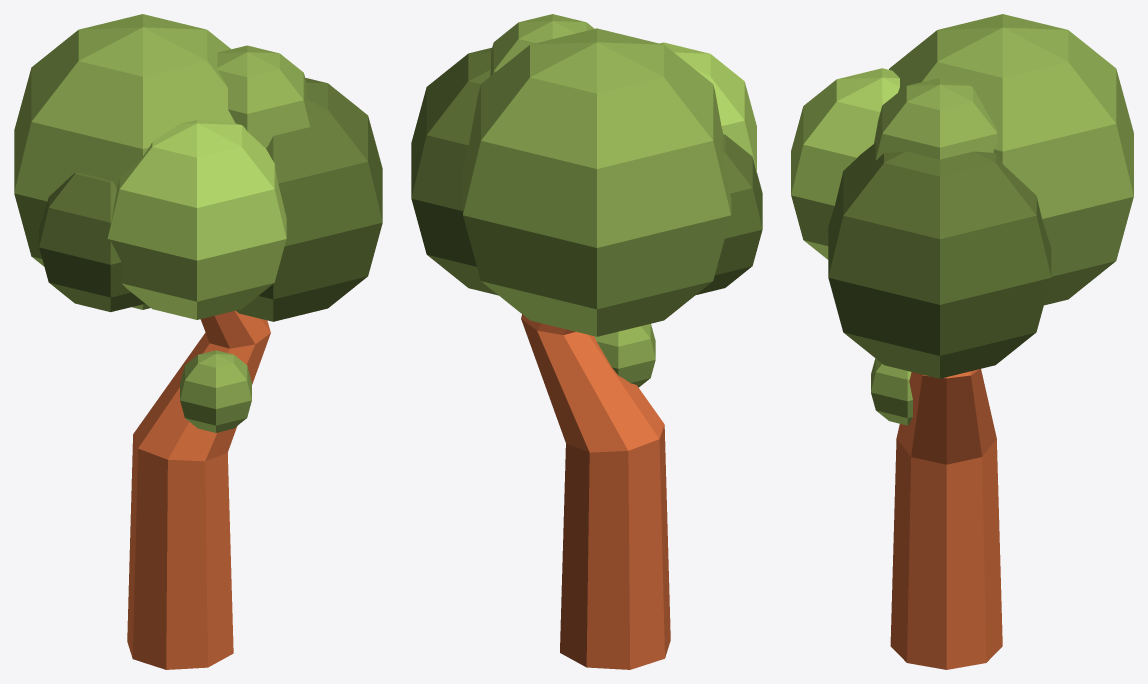
Rendered from treeShape.fbx.
3 renders of one model, left to right at view 1: azimuth 30°, elevation 25°; view 2: azimuth 150°, elevation 25°; view 3: azimuth 270°, elevation 25°, orthographic. The views are drawn at different scales.
Parts seen in each view (by area): view 1: pCylinder1, pSphere3, pSphere2, pSphere5, pSphere1, pSphere4, pSphere6; view 2: pSphere3, pCylinder1, pSphere5, pSphere1, pSphere2, pSphere6, pSphere4; view 3: pSphere5, pSphere3, pCylinder1, pSphere2, pSphere4, pSphere6.
Boxes of the visible parts, x1=… form: pCylinder1: x1=127, y1=310, x2=270, y2=669; pSphere3: x1=14, y1=14, x2=234, y2=309; pSphere2: x1=107, y1=120, x2=286, y2=319; pSphere5: x1=236, y1=78, x2=382, y2=321; pSphere1: x1=39, y1=172, x2=144, y2=312; pSphere4: x1=217, y1=45, x2=310, y2=148; pSphere6: x1=180, y1=350, x2=251, y2=432; pSphere3: x1=463, y1=28, x2=731, y2=336; pCylinder1: x1=521, y1=314, x2=670, y2=669; pSphere5: x1=411, y1=47, x2=498, y2=295; pSphere1: x1=696, y1=134, x2=762, y2=294; pSphere2: x1=659, y1=42, x2=756, y2=172; pSphere6: x1=594, y1=324, x2=655, y2=387; pSphere4: x1=490, y1=14, x2=594, y2=75; pSphere5: x1=828, y1=143, x2=1051, y2=378; pSphere3: x1=889, y1=14, x2=1133, y2=305; pCylinder1: x1=890, y1=369, x2=1002, y2=669; pSphere2: x1=791, y1=68, x2=899, y2=259; pSphere4: x1=874, y1=78, x2=998, y2=160; pSphere6: x1=871, y1=358, x2=912, y2=425.
Bounding box in the file's own units: 201 × 340 × 172.
